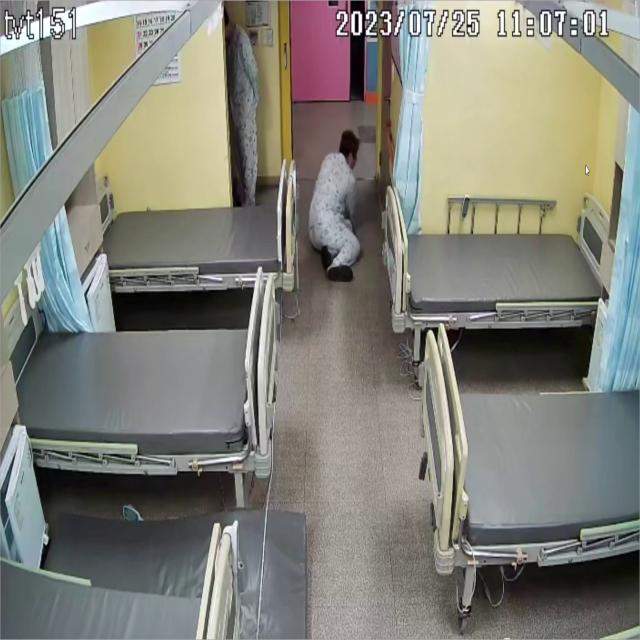bed: (420, 324, 640, 569), (14, 318, 278, 470), (382, 213, 616, 332), (105, 192, 294, 290)
fall: (301, 127, 365, 286)
patient: (303, 126, 365, 286), (227, 0, 260, 205)
